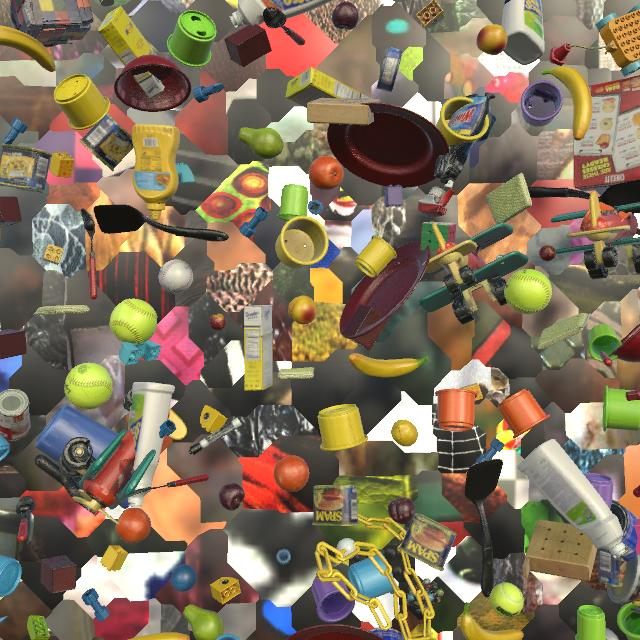ycb_002_master_chef_can: (602, 500, 639, 562), (369, 628, 404, 640)
ycb_003_cracker_box: (573, 75, 640, 192)
ycb_004_sugar_box: (98, 5, 165, 99), (285, 67, 371, 108), (244, 305, 273, 391), (392, 0, 406, 3)
ycb_005_tomato_soup_can: (0, 389, 31, 441)
ycb_006_mustard_bottle: (132, 124, 180, 220)
ycb_007_tuna_fish_can: (376, 46, 403, 92)
ycb_010_potted_meat_can: (398, 513, 457, 571), (79, 113, 134, 171), (0, 143, 52, 194), (312, 485, 360, 526), (599, 548, 627, 587)
ycb_011_banana: (542, 66, 592, 141), (0, 26, 56, 72), (461, 602, 524, 640), (348, 353, 429, 377), (128, 632, 190, 640)
ycb_014_lemon: (391, 419, 418, 447)
ycb_015_peach: (476, 24, 507, 55), (288, 296, 317, 324)
ycb_016_pear: (183, 604, 224, 640), (238, 127, 284, 159)
ycb_017_orange: (115, 507, 151, 543), (274, 455, 309, 492), (309, 156, 344, 191)
ycb_018_plum: (332, 1, 359, 30), (388, 497, 415, 524), (219, 483, 245, 511)
